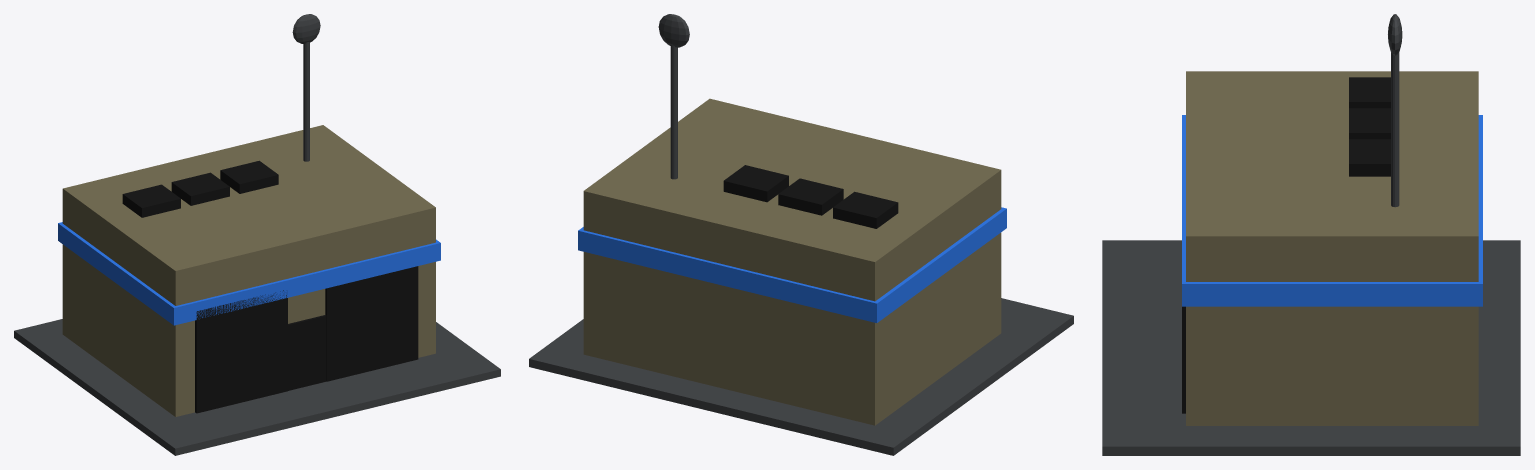
File: us_vehicle_depot.glb
3 views of the same model, side by side, from view 1: azimuth 30°, elevation 25°; view 2: azimuth 150°, elevation 25°; view 3: azimuth 270°, elevation 25° (orthographic). The views are drawn at different scales.
Visible parts, largest first — view 1: main, base, garage_0, garage_1, team_band, door, vent_0, vent_1, vent_2, mast, dish; view 2: main, base, team_band, vent_0, vent_1, vent_2, mast, dish; view 3: main, base, team_band, vent_2, mast, vent_0, vent_1, dish, garage_1.
Boxes of the visible parts, <box> form: main: <box>62,125,435,416</box>; base: <box>14,319,500,455</box>; garage_0: <box>195,290,287,413</box>; garage_1: <box>325,266,418,381</box>; team_band: <box>58,222,440,325</box>; door: <box>288,315,326,390</box>; vent_0: <box>122,184,180,217</box>; vent_1: <box>171,172,229,205</box>; vent_2: <box>220,160,278,193</box>; mast: <box>303,42,309,161</box>; dish: <box>292,14,320,43</box>; main: <box>583,98,1001,425</box>; base: <box>529,298,1073,455</box>; team_band: <box>578,207,1006,322</box>; vent_0: <box>833,191,898,228</box>; vent_1: <box>778,178,843,215</box>; vent_2: <box>723,165,788,202</box>; mast: <box>670,45,677,179</box>; dish: <box>658,14,689,47</box>; main: <box>1186,71,1478,425</box>; base: <box>1102,240,1520,455</box>; team_band: <box>1182,115,1482,306</box>; vent_2: <box>1349,139,1390,176</box>; mast: <box>1391,52,1399,207</box>; vent_0: <box>1349,77,1390,108</box>; vent_1: <box>1349,108,1390,139</box>; dish: <box>1388,14,1402,55</box>; garage_1: <box>1182,306,1185,413</box>.
Size of the model in its own units: 14 by 12.3 by 12.
